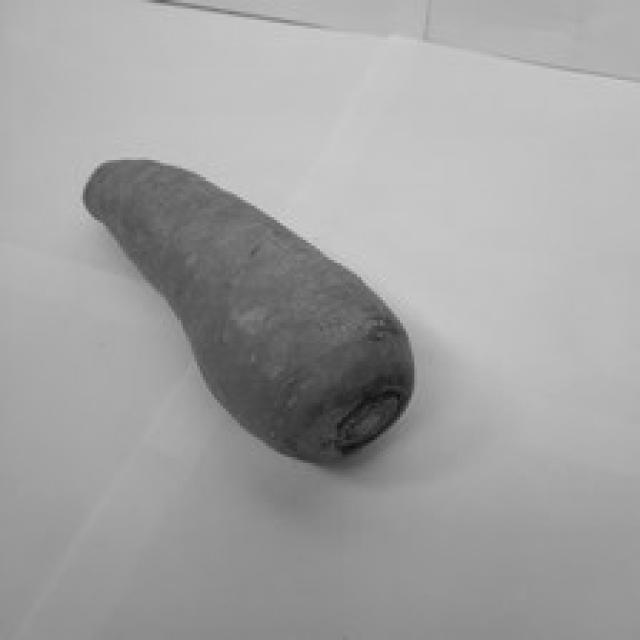Fresh_Carrot: (43, 112, 466, 500), (72, 150, 421, 447)
